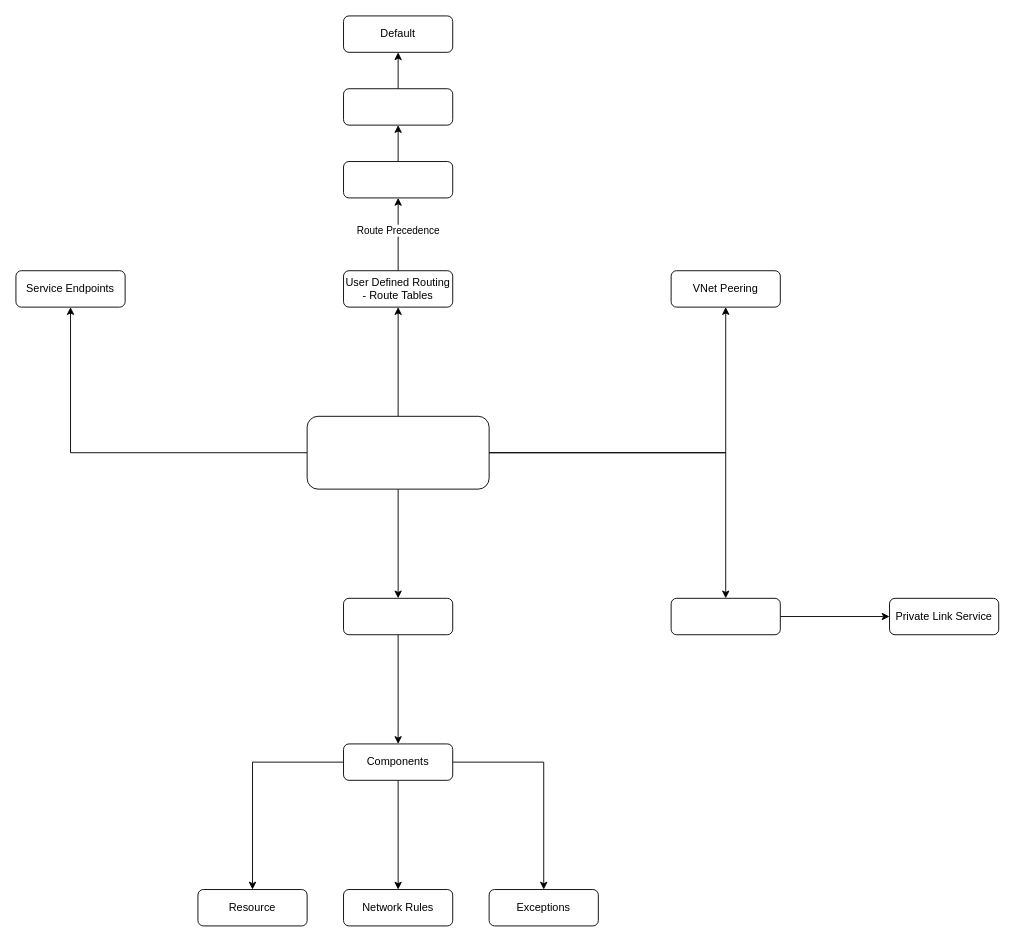
This 1015x942 diagram has some shape labels left out. Here are the shapes that lost their labels. From the top down, the centre of each, then its label:
At pixel 398 106: "BGP".
At pixel 398 179: "Custom".
At pixel 397 452: "Advance Networking".
At pixel 398 616: "Resource Firewalls".
At pixel 725 616: "PrivateLink".
